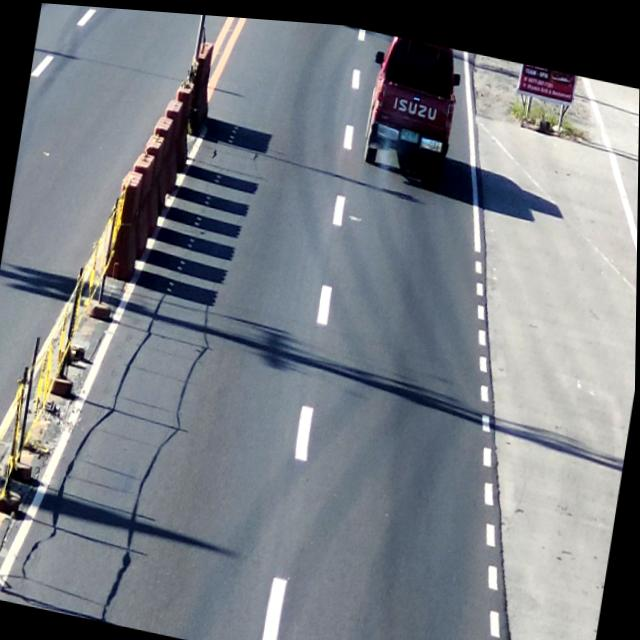Car: (357, 26, 465, 187)
License-Plate: (400, 117, 423, 140)
